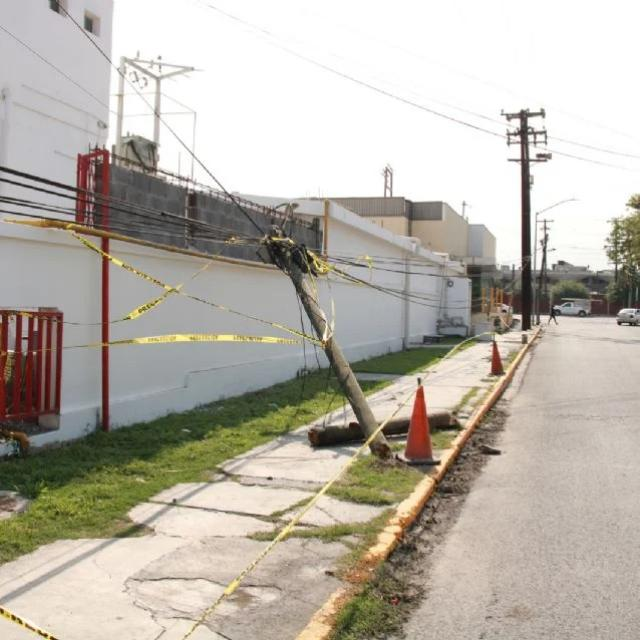Inclined Pole: (256, 221, 397, 462), (308, 408, 456, 445)
